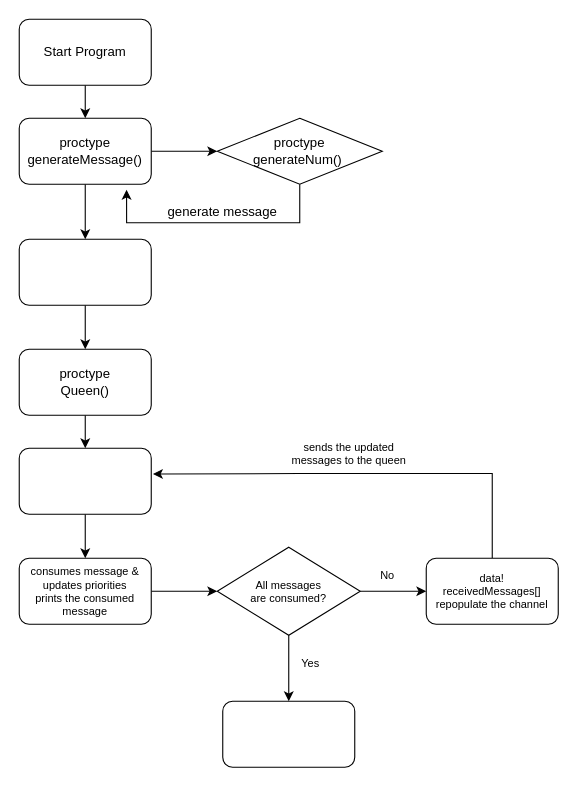
The diagram is 578 pixels wide and 787 high, and some of its shapes have lost their labels. The centre of each missing label's shape, as x and y in pixels:
data!messages (sends the messages through the channel): the point at 84,271
data? receivedMessages[l] (receives messages): the point at 84,480
End Program: the point at 288,733
